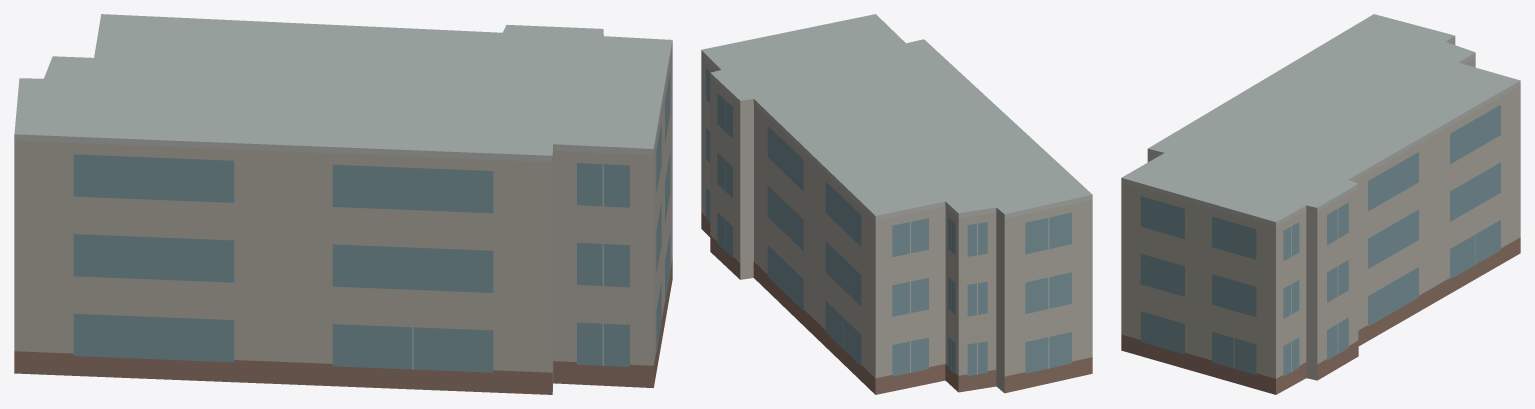
Rendered from survey-upis-32702563.glb.
The picture shows the model from 3 angles, left to right: view 1: azimuth 30°, elevation 25°; view 2: azimuth 150°, elevation 25°; view 3: azimuth 270°, elevation 25°; orthographic projection. The views are drawn at different scales.
Visible parts, largest first — view 1: survey-upis-32702563.tmp; view 2: survey-upis-32702563.tmp; view 3: survey-upis-32702563.tmp.
Boxes of the visible parts, x1,y1,x2,y2 form: survey-upis-32702563.tmp: (14,14,672,394); survey-upis-32702563.tmp: (701,14,1092,394); survey-upis-32702563.tmp: (1121,14,1520,394).
Bounding box in the file's own units: 23.65 × 9.15 × 19.18.
